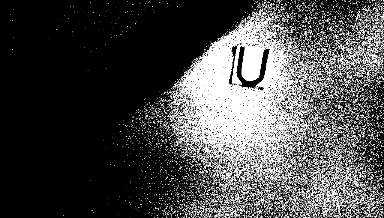U: (233, 42, 272, 86)
